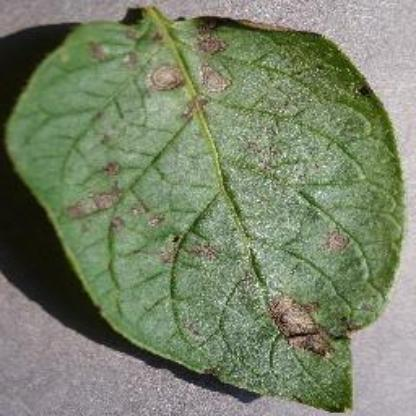Early-Blight: (6, 2, 388, 410)
